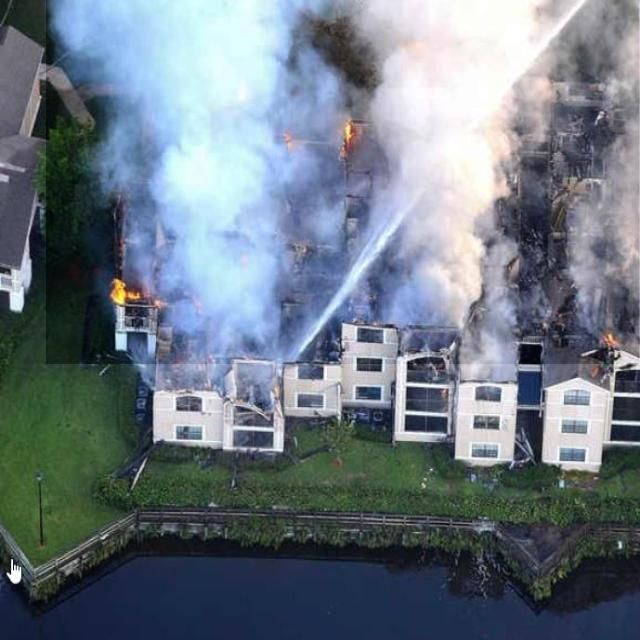Smoke: (46, 0, 639, 364)
